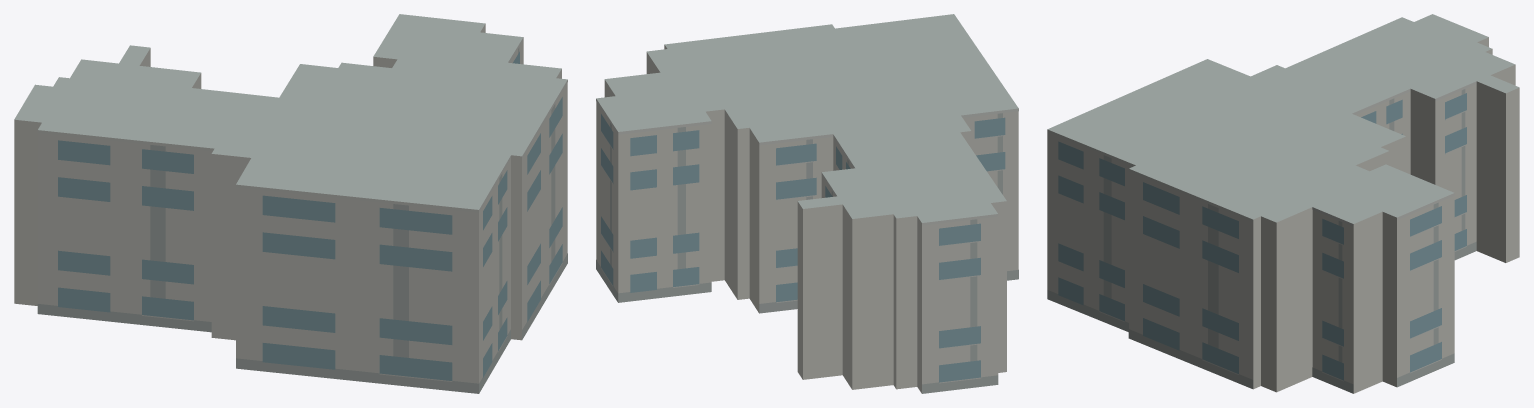
The model's file is residential-3e83ca72-1ee1-44c0-a759-1421d72fb01e.glb.
3 renders of one model, left to right at view 1: azimuth 30°, elevation 25°; view 2: azimuth 150°, elevation 25°; view 3: azimuth 270°, elevation 25°, orthographic. The views are drawn at different scales.
Parts seen in each view (by area): view 1: residential-3e83ca72-1ee1-44c0-a759-1421d72fb01e.tmp; view 2: residential-3e83ca72-1ee1-44c0-a759-1421d72fb01e.tmp; view 3: residential-3e83ca72-1ee1-44c0-a759-1421d72fb01e.tmp.
Part boxes in pixels (x1,y1,x2,y2): residential-3e83ca72-1ee1-44c0-a759-1421d72fb01e.tmp: [14, 14, 567, 393]; residential-3e83ca72-1ee1-44c0-a759-1421d72fb01e.tmp: [596, 14, 1018, 393]; residential-3e83ca72-1ee1-44c0-a759-1421d72fb01e.tmp: [1047, 14, 1519, 393].
Size of the model in its own units: 40.48 by 15.25 by 38.45.
